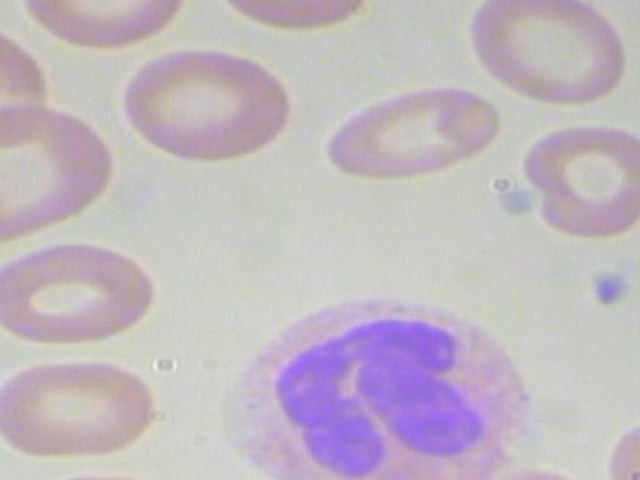Platelets: (584, 269, 640, 310)
RBC: (321, 69, 510, 187), (109, 47, 298, 164), (0, 348, 168, 467), (0, 234, 163, 353), (462, 0, 640, 107), (0, 105, 120, 249), (501, 119, 640, 236), (611, 411, 640, 480), (0, 425, 4, 480), (639, 288, 640, 406)
WBC: (203, 280, 544, 480)
